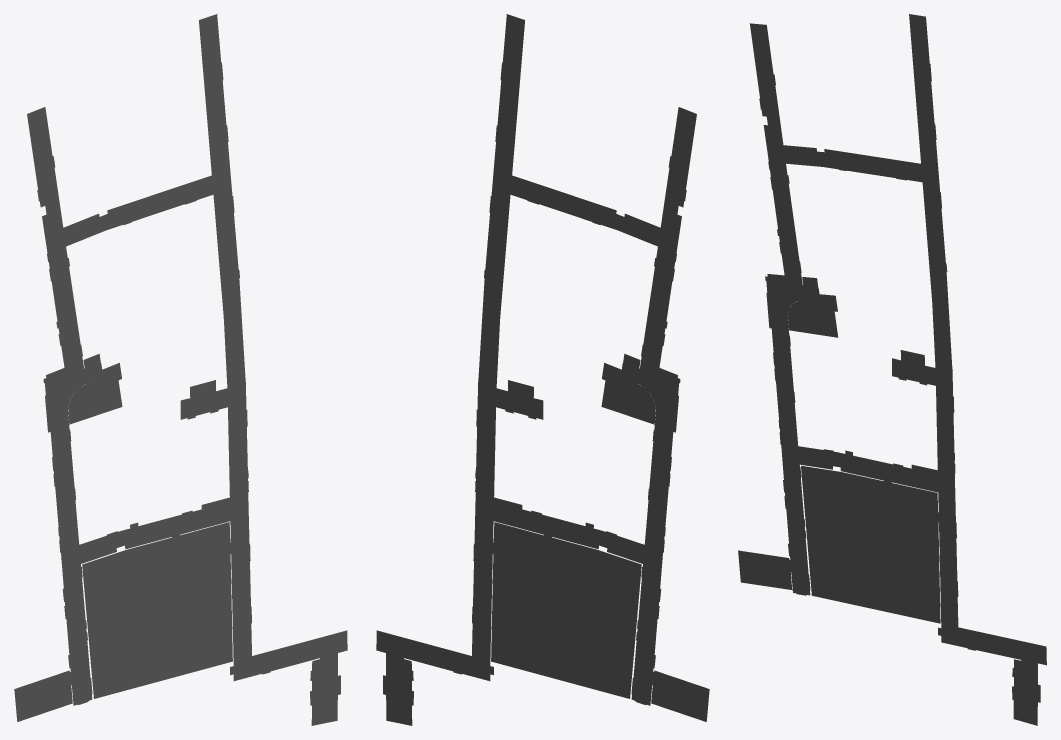
Rendered from Contours3_v3_floor.dae.
The picture shows the model from 3 angles, left to right: view 1: azimuth 30°, elevation 25°; view 2: azimuth 150°, elevation 25°; view 3: azimuth 330°, elevation 25°; orthographic projection. The views are drawn at different scales.
Parts seen in each view (by area): view 1: node; view 2: node; view 3: node.
Boxes of the visible parts, x1,y1,x2,y2 form: node: [14, 14, 347, 725]; node: [376, 14, 709, 725]; node: [738, 14, 1046, 725].
Size of the model in its own units: 37.17 by 78.45 by 0.
1 material, 1 textured.
